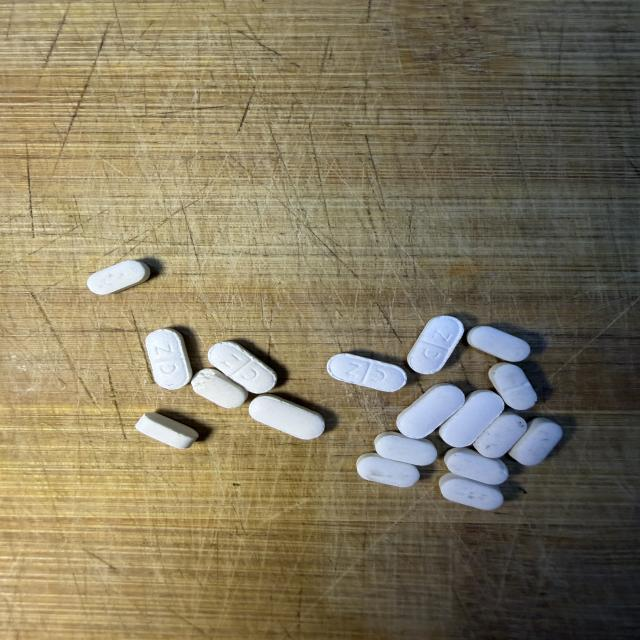pill: (439, 390, 504, 447), (397, 384, 464, 438), (208, 342, 277, 393), (249, 394, 324, 439), (407, 316, 463, 374), (327, 354, 406, 391), (146, 329, 192, 389), (509, 418, 562, 465), (474, 412, 526, 458), (439, 473, 503, 510), (444, 448, 508, 484), (191, 369, 248, 408), (489, 363, 536, 410), (467, 326, 530, 361), (136, 413, 198, 448), (87, 260, 150, 294), (357, 453, 419, 487), (375, 432, 437, 465)
